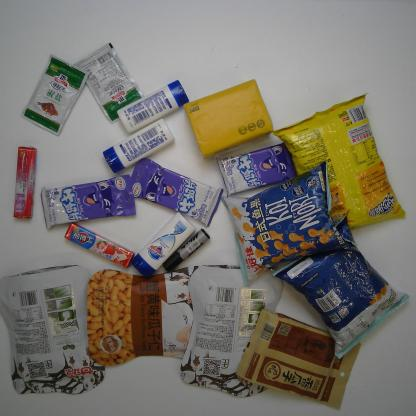Candy: (129, 154, 223, 227), (40, 174, 136, 230), (217, 141, 299, 198), (61, 220, 134, 272), (12, 144, 39, 220)
Dried Food: (237, 306, 362, 410)
Dried Fruit: (2, 264, 107, 397), (181, 265, 277, 396), (86, 266, 208, 366)
Personal Hygiene: (133, 208, 199, 280), (98, 119, 176, 172), (115, 79, 188, 132)
Puffed Food: (272, 212, 412, 364), (272, 92, 406, 240), (220, 161, 349, 289)
Seasoner: (76, 41, 142, 123), (24, 54, 88, 136)
Stationery: (161, 229, 210, 272)
Tissue: (182, 78, 274, 157)
